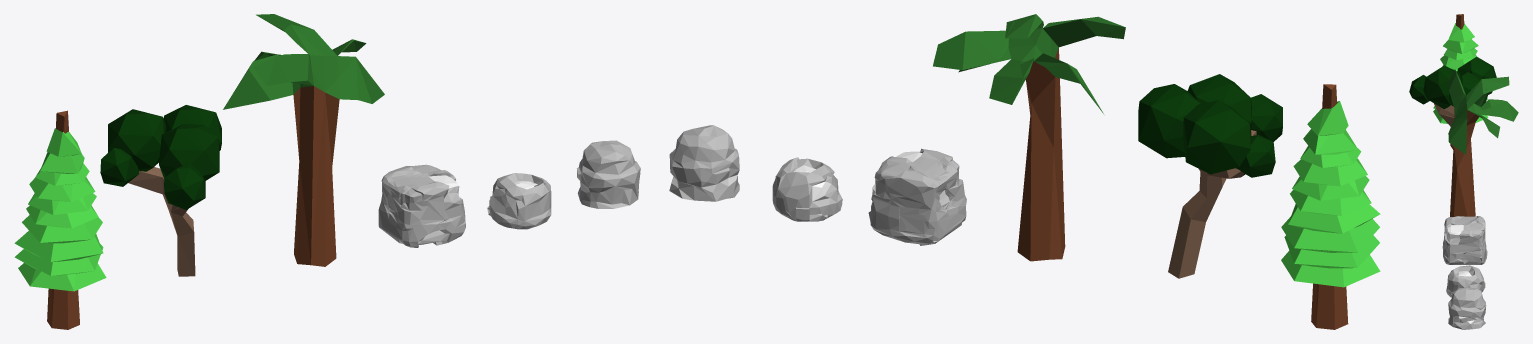
File: cenarioPrefabs.fbx
3 views of the same model, side by side, from view 1: azimuth 30°, elevation 25°; view 2: azimuth 150°, elevation 25°; view 3: azimuth 270°, elevation 25° (orthographic). The views are drawn at different scales.
Visible parts, largest first — view 1: palmeira, pinheiro, caravlho, rochaC, rochaB, rochaA; view 2: palmeira, pinheiro, caravlho, rochaC, rochaB, rochaA; view 3: palmeira, caravlho, rochaC, rochaB, pinheiro, rochaA.
Part boxes in pixels (x1,y1,x2,y2): palmeira: (223,14,384,266); pinheiro: (14,110,106,329); caravlho: (100,105,221,276); rochaC: (378,164,465,247); rochaB: (577,140,640,208); rochaA: (487,173,551,229); palmeira: (933,14,1125,261); pinheiro: (1281,84,1380,329); caravlho: (1138,74,1282,278); rochaC: (868,148,966,245); rochaB: (669,125,739,201); rochaA: (772,157,842,221); palmeira: (1448,69,1518,216); caravlho: (1409,56,1496,174); rochaC: (1442,216,1487,264); rochaB: (1448,287,1486,329); pinheiro: (1433,14,1488,149); rochaA: (1446,265,1485,297).
Bounding box in the file's own units: 2118 × 789 × 520.
